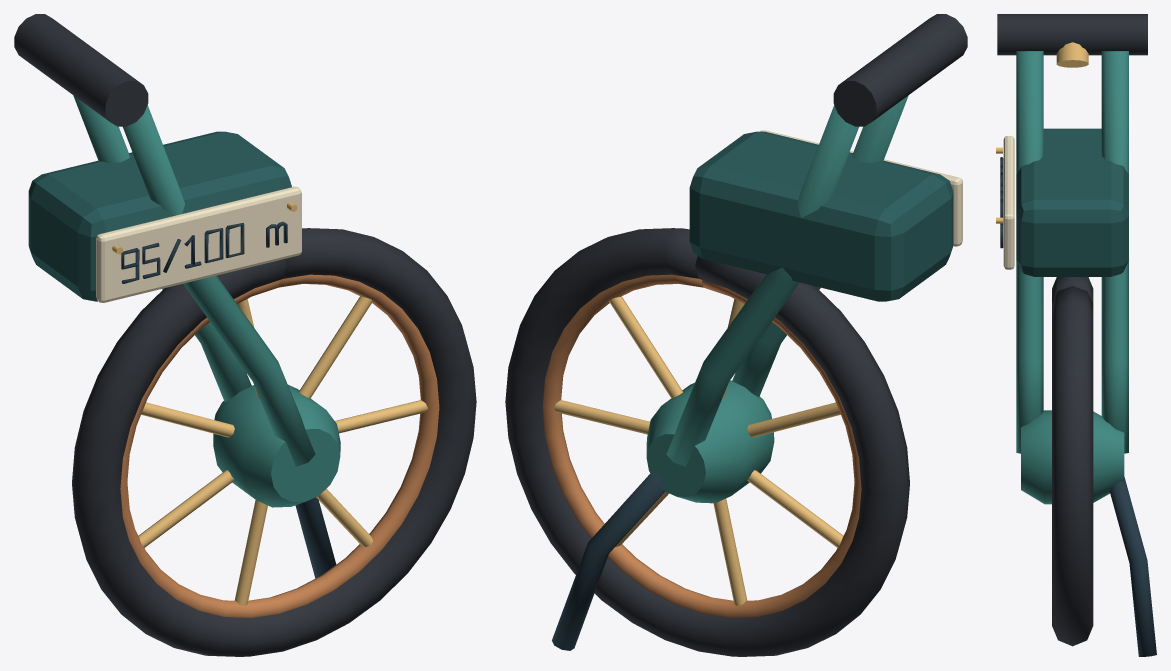
The picture shows the model from 3 angles, left to right: view 1: azimuth 30°, elevation 25°; view 2: azimuth 150°, elevation 25°; view 3: azimuth 270°, elevation 25°; orthographic projection. The views are drawn at different scales.
Visible parts, largest first — view 1: PR030 workshop surfaces; view 2: PR030 workshop surfaces; view 3: PR030 workshop surfaces.
Boxes of the visible parts, box(x1,y1,x2,y2) form: PR030 workshop surfaces: box(14, 14, 476, 656); PR030 workshop surfaces: box(505, 14, 967, 656); PR030 workshop surfaces: box(996, 14, 1156, 656).
Bounding box in the file's own units: 0.9448 × 1.4 × 0.381.
